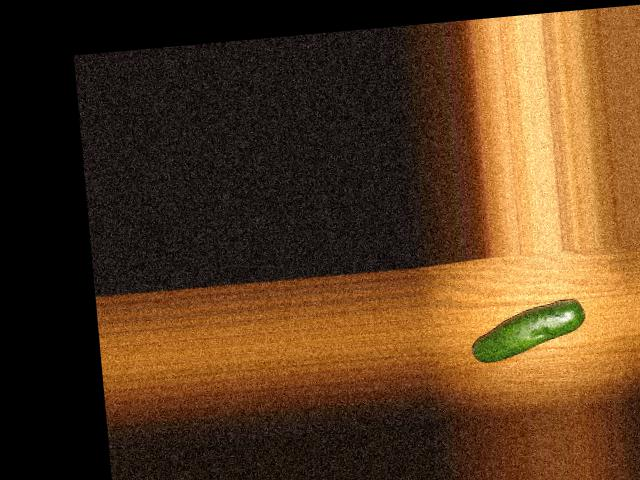cucumber: (467, 297, 586, 363)
